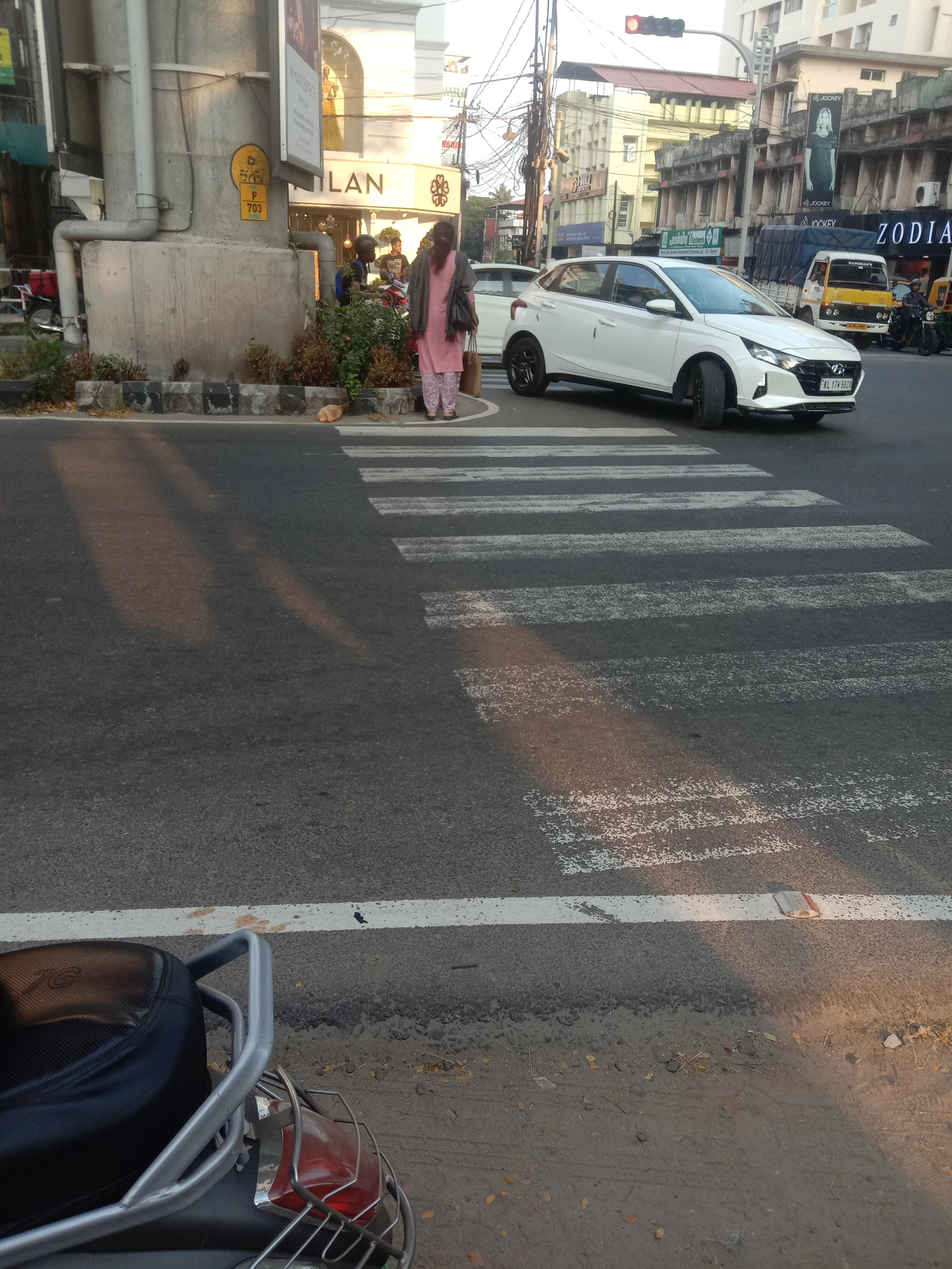crosswalk: (345, 419, 952, 903)
